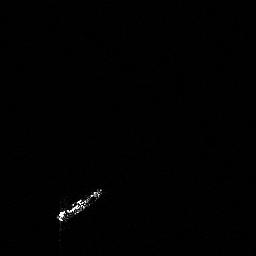ship: (51, 182, 106, 226)
